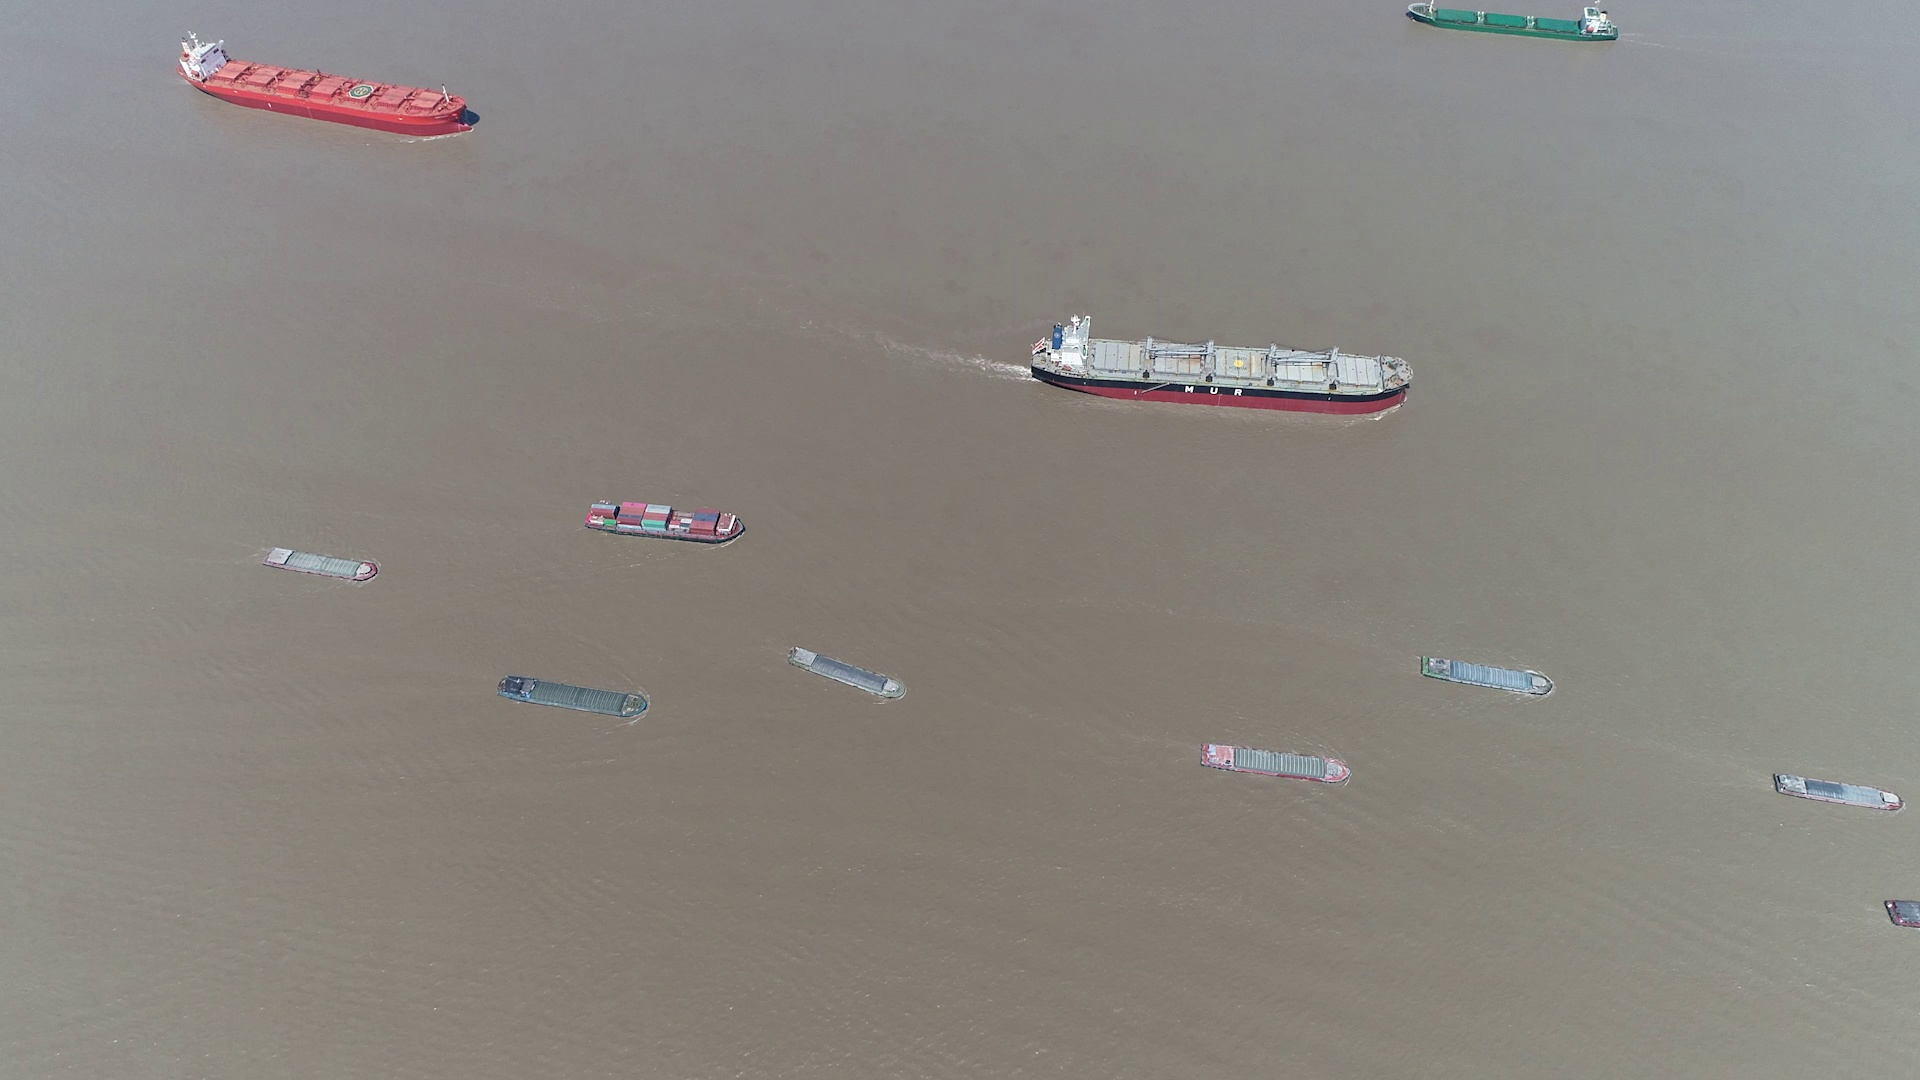ship: (1034, 316, 1414, 414), (179, 26, 475, 137), (1406, 5, 1619, 42), (583, 496, 745, 542), (498, 675, 650, 717), (790, 647, 905, 702), (1201, 742, 1349, 782), (1771, 771, 1903, 811), (1422, 657, 1553, 696), (261, 546, 378, 582), (1887, 899, 1919, 930)
